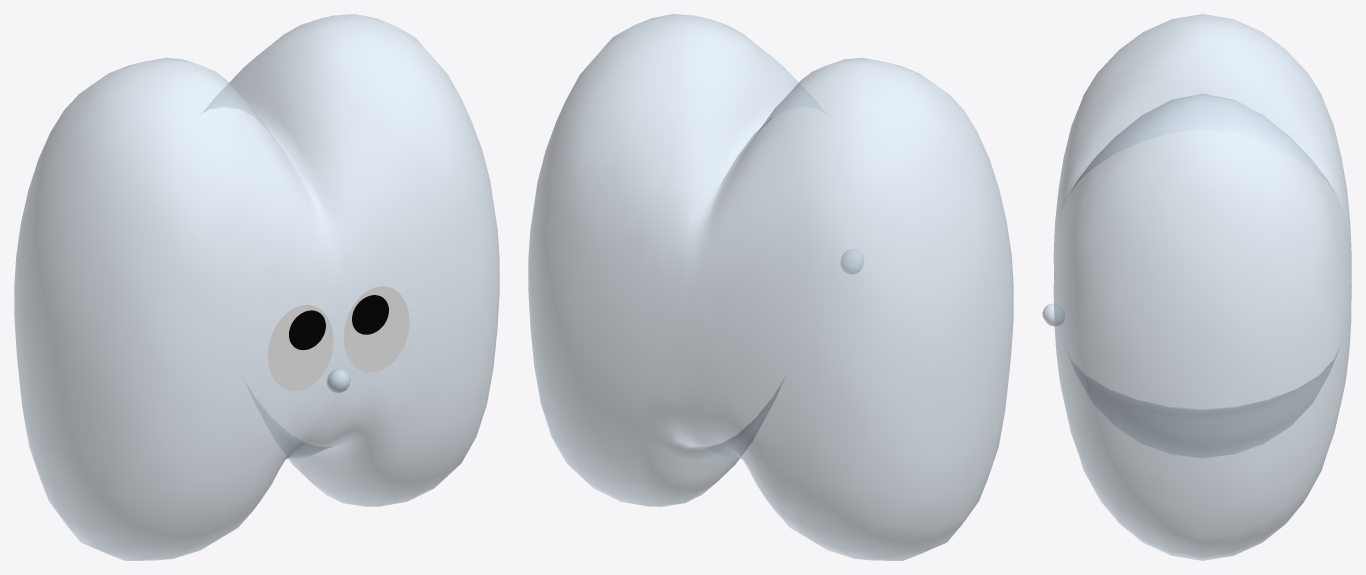
File: real.gltf
3 views of the same model, side by side, from view 1: azimuth 30°, elevation 25°; view 2: azimuth 150°, elevation 25°; view 3: azimuth 270°, elevation 25° (orthographic). The views are drawn at different scales.
Parts seen in each view (by area): view 1: M, Disc (×2); view 2: M; view 3: M.
Boxes of the visible parts, x1,y1,x2,y2 form: M: (14,14,499,560); Disc (×2): (268,286,409,391); M: (528,14,1013,560); M: (1042,14,1351,560).
Size of the model in its own units: 221 by 233 by 149.
